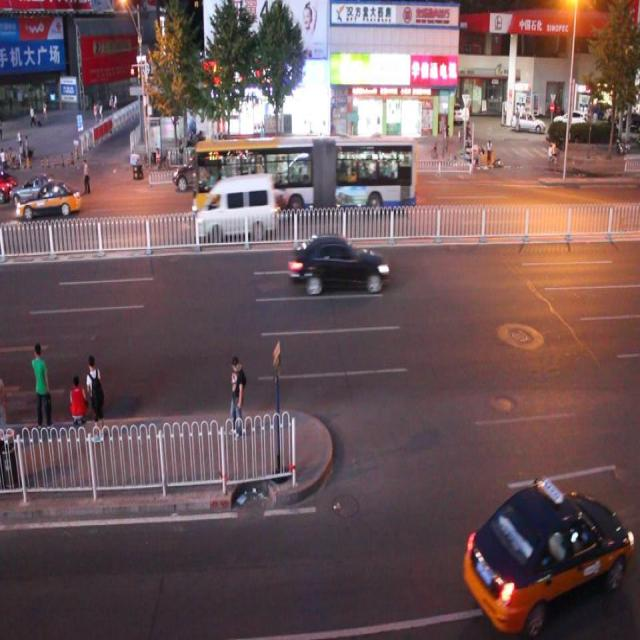car: (460, 479, 631, 640), (191, 136, 417, 217), (286, 234, 390, 298), (17, 181, 80, 220), (174, 151, 224, 190), (364, 158, 408, 195), (276, 154, 323, 187), (10, 174, 58, 205), (1, 168, 17, 205)
truck: (192, 172, 276, 240)
